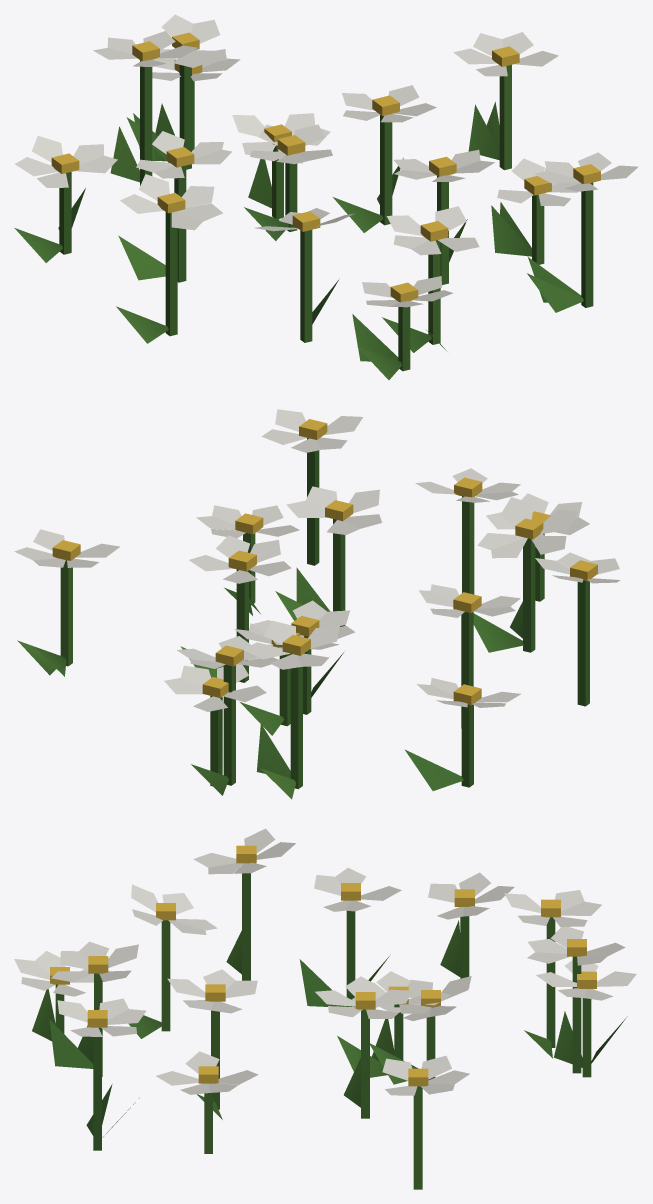
File: FlowersWhite.glb
3 views of the same model, one above another, from view 1: azimuth 30°, elevation 25°; view 2: azimuth 150°, elevation 25°; view 3: azimuth 270°, elevation 25° (orthographic). The views are drawn at different scales.
Parts seen in each view (by area): view 1: Petals, Stems; view 2: Petals, Stems; view 3: Petals, Stems.
Part boxes in pixels (bbox=[...]): Petals: bbox=[14, 14, 638, 307]; Stems: bbox=[14, 60, 593, 379]; Petals: bbox=[14, 409, 620, 711]; Stems: bbox=[17, 438, 589, 799]; Petals: bbox=[14, 828, 636, 1095]; Stems: bbox=[32, 873, 627, 1189].
Size of the model in its own units: 4.71 by 1.26 by 4.98.
